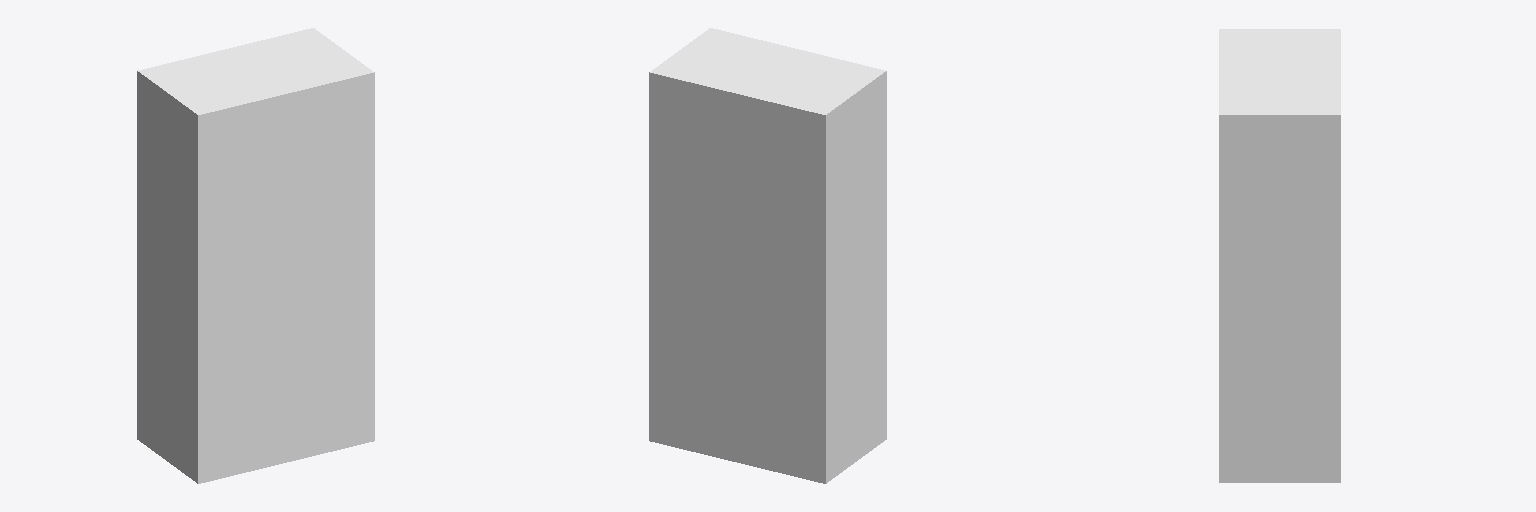
Rendered from Minero-4.obj.
The picture shows the model from 3 angles: view 1: azimuth 30°, elevation 25°; view 2: azimuth 150°, elevation 25°; view 3: azimuth 270°, elevation 25°; orthographic projection.
Visible parts, largest first — view 1: object 1; view 2: object 1; view 3: object 1.
Boxes of the visible parts, <box> form: object 1: <box>137,28,374,483</box>; object 1: <box>649,28,886,483</box>; object 1: <box>1219,29,1340,482</box>.
Bounding box in the file's own units: 0.5 × 1 × 0.3.